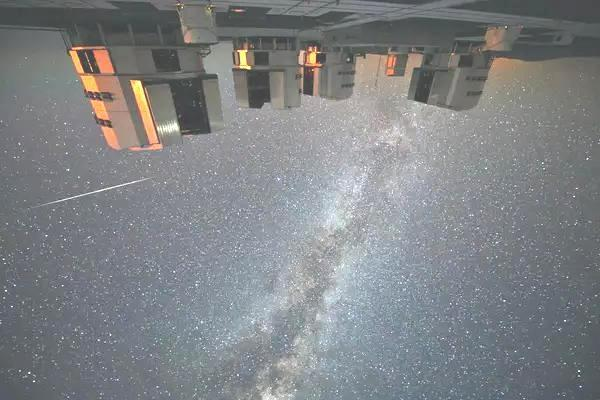meteorite: (21, 172, 164, 210)
